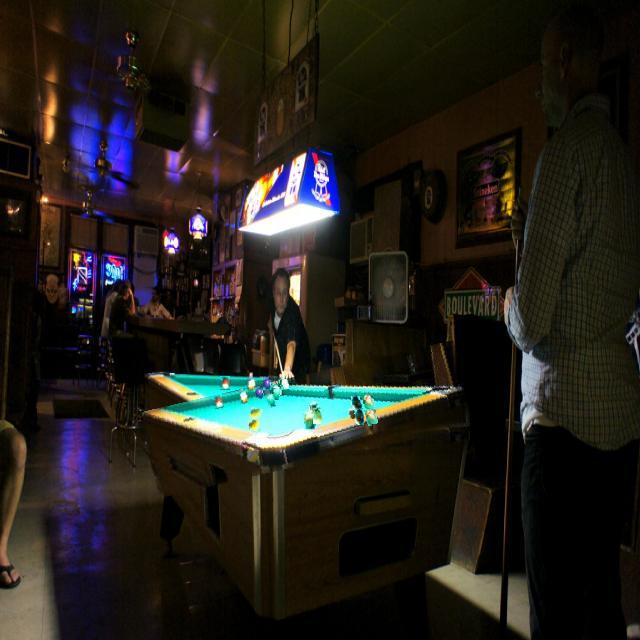Ball: (365, 410, 378, 426), (250, 407, 262, 421), (305, 414, 315, 430), (313, 407, 322, 424), (355, 408, 364, 425), (220, 376, 230, 390), (245, 379, 256, 391), (280, 379, 289, 392), (263, 380, 271, 390), (274, 388, 280, 400)
Billiard table: (143, 358, 471, 481)
